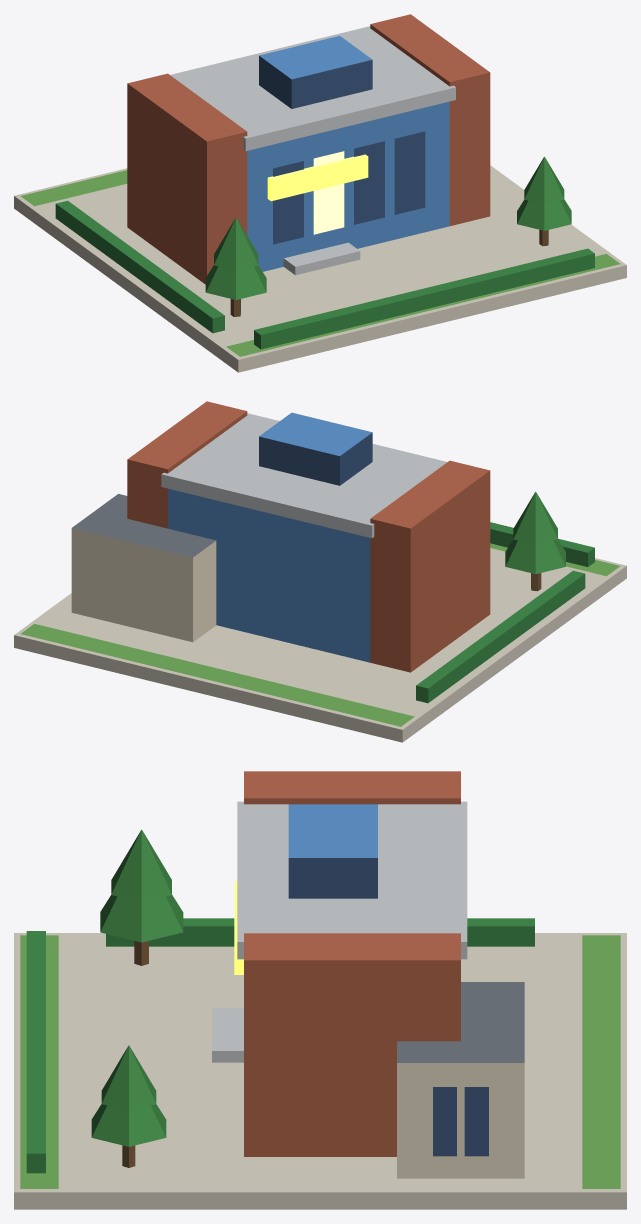
3 renders of one model, top to bottom at view 1: azimuth 30°, elevation 25°; view 2: azimuth 150°, elevation 25°; view 3: azimuth 270°, elevation 25°, orthographic. The views are drawn at different scales.
Visible parts, largest first — view 1: b22; view 2: b22; view 3: b22.
Part boxes in pixels (x1,y1,x2,y2): b22: (14, 14, 626, 372); b22: (14, 401, 626, 742); b22: (14, 771, 626, 1209).
Size of the model in its own units: 0.96 by 0.43 by 0.96.
